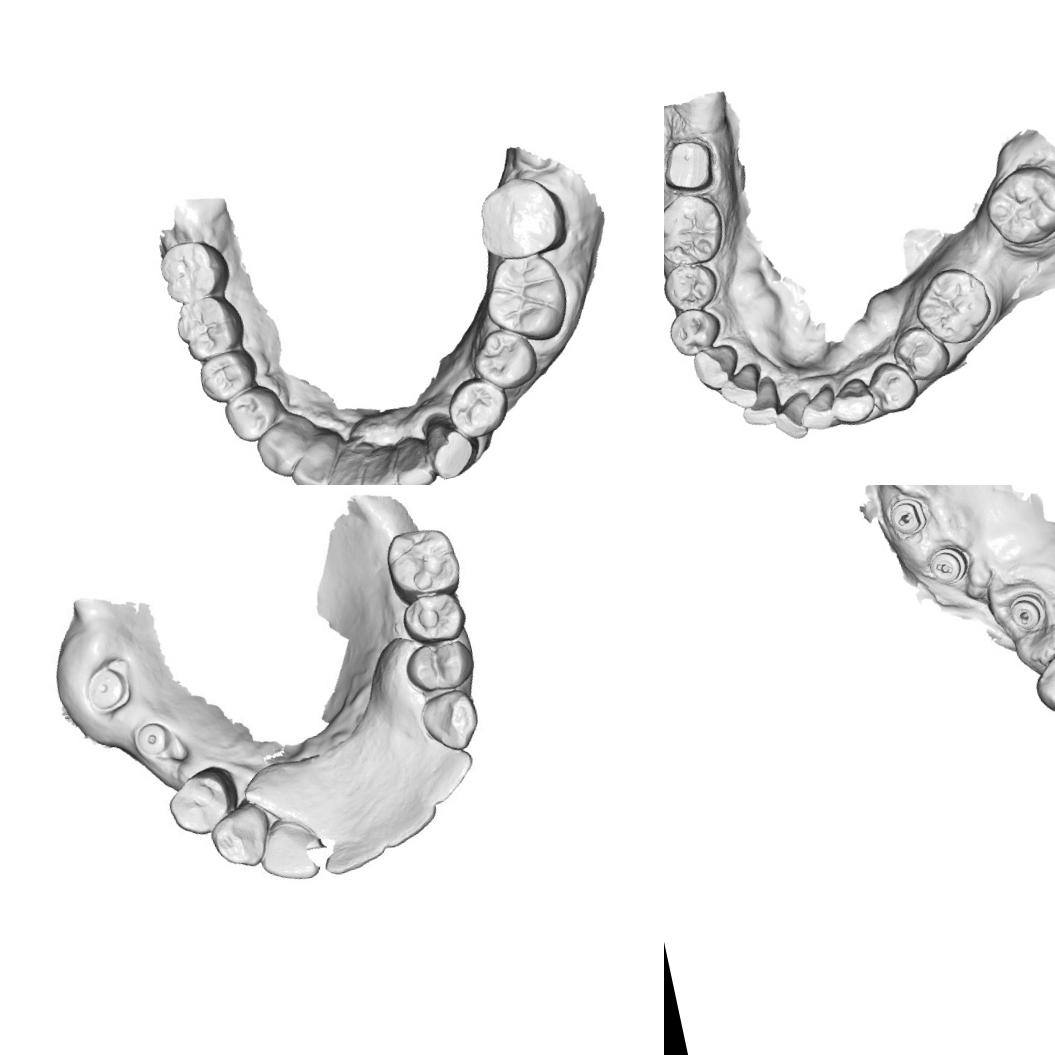canine: (249, 406, 324, 484), (414, 682, 486, 758), (416, 405, 483, 484), (205, 800, 274, 873), (684, 334, 745, 395), (823, 365, 880, 430), (1026, 639, 1055, 724)
crown: (664, 121, 729, 204)
implant: (76, 660, 135, 717), (127, 714, 182, 773)
implant_minus: (882, 492, 931, 542), (1003, 587, 1052, 637), (923, 540, 974, 588)
incisor: (252, 816, 326, 889), (371, 789, 442, 853), (317, 820, 388, 880), (417, 742, 480, 808), (282, 430, 353, 485), (385, 426, 443, 485), (712, 358, 770, 416), (736, 372, 788, 434), (768, 386, 820, 444), (350, 434, 408, 485), (795, 379, 842, 436), (314, 445, 370, 485)
molar: (474, 247, 576, 352), (469, 167, 573, 267), (969, 151, 1055, 256), (907, 258, 998, 353), (379, 522, 465, 606), (167, 286, 250, 366), (154, 233, 236, 308), (664, 188, 728, 270)
premolar: (464, 319, 542, 398), (161, 765, 238, 842), (398, 633, 480, 703), (441, 370, 514, 444), (218, 376, 292, 448), (394, 581, 470, 650), (887, 317, 953, 388), (192, 344, 265, 408), (664, 298, 728, 366), (861, 350, 921, 419), (664, 253, 720, 316)
